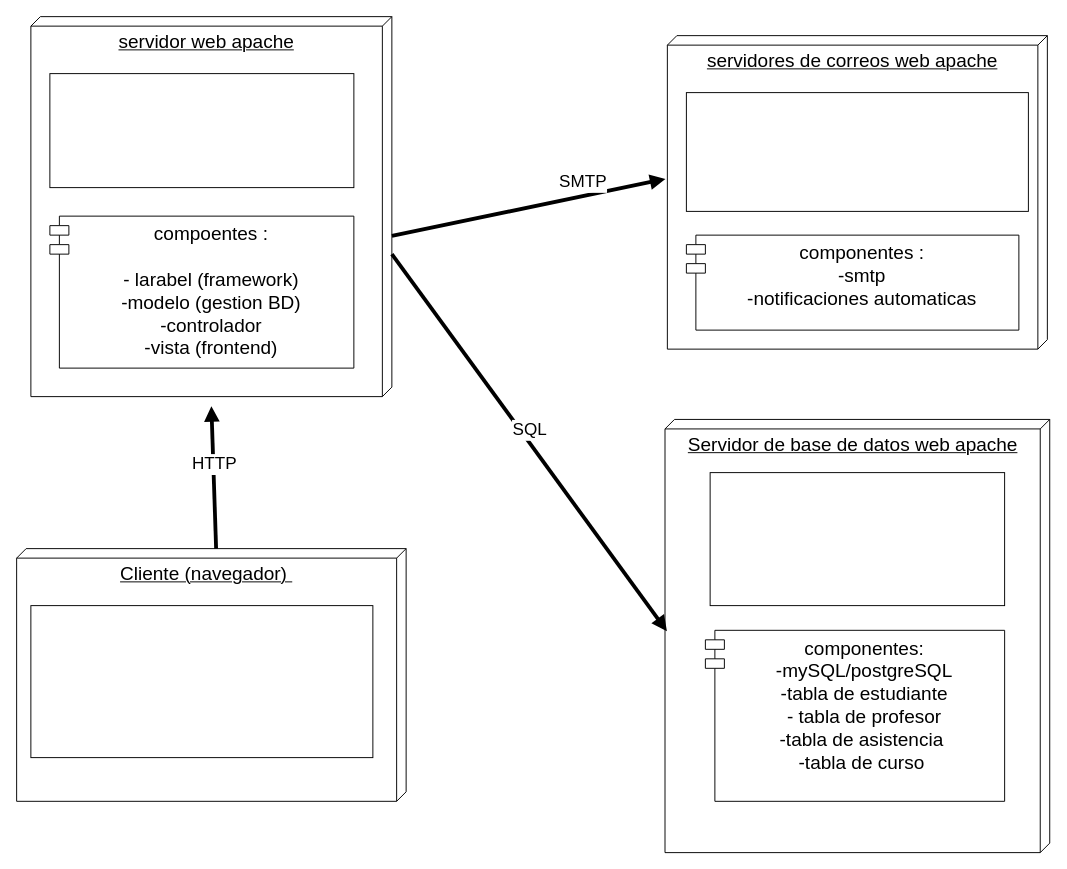
Image size: 1067x869. Some labels were removed from this diagram. The shapes that lost their labels are listed below. From the top down, each one's centre as x and y in pixels, then its label:
(x=201, y=130): «artifact» Aplicacion web SIST CONTROL
(x=856, y=151): «artifact» SMTP (Simple Mail Transfer Protocol)
(x=857, y=539): «artifact» -base de datos(sistema de gestion)
(x=201, y=681): «artifact» interfaz web - html,css,Javascript
